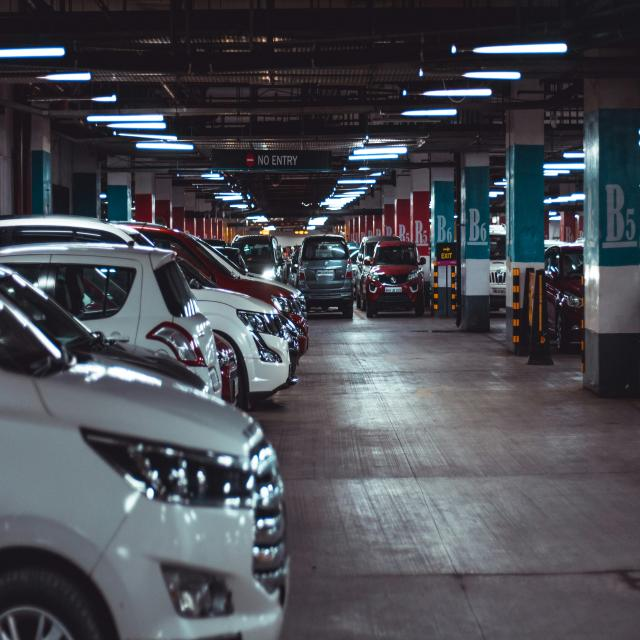pillar: (345, 109, 545, 351), (0, 108, 260, 243), (582, 80, 640, 395), (584, 78, 640, 395), (506, 108, 550, 356), (461, 153, 492, 334), (432, 154, 457, 318), (413, 168, 429, 309), (71, 143, 100, 218), (32, 112, 51, 213), (108, 170, 132, 219), (396, 171, 411, 241), (135, 174, 155, 224), (156, 174, 173, 228), (382, 182, 395, 234)
rebar: (238, 159, 424, 225)
